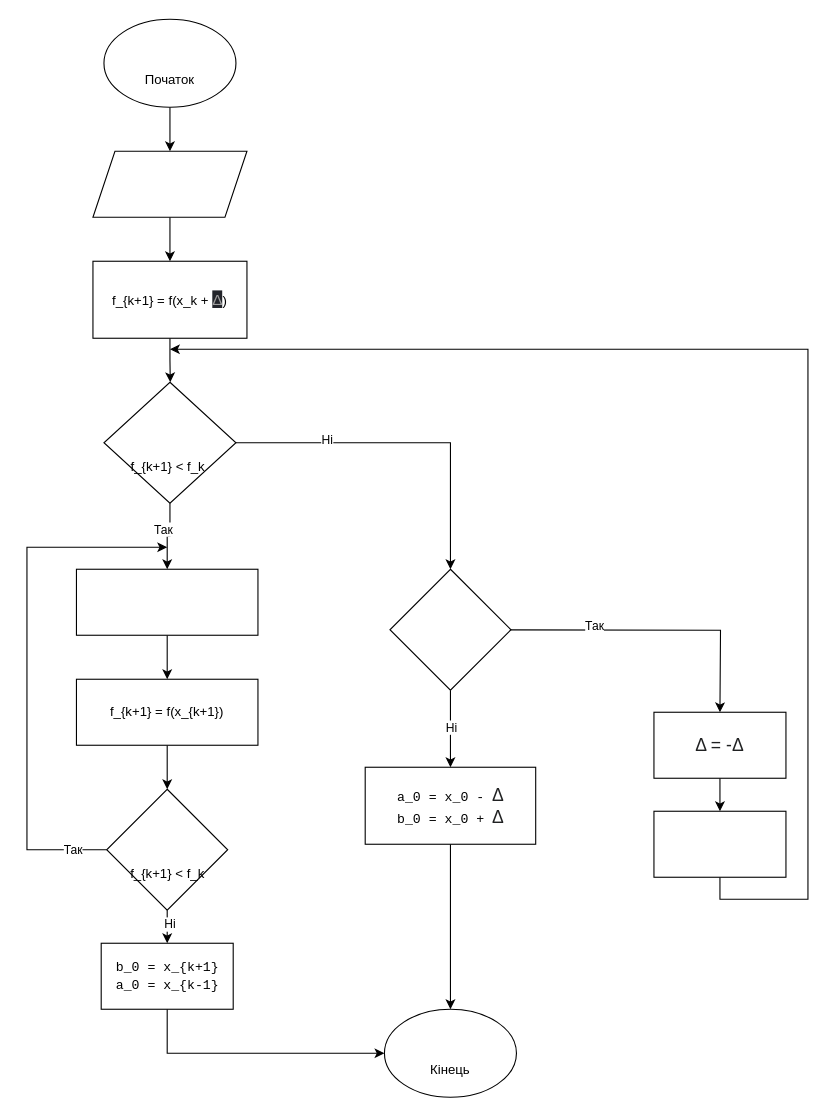
Some shapes in this 836 by 1117 pixel diagram are drawn without their labels. The shapes that lost their labels are listed below. From the top down, each one's centre as x and y in pixels, then its label:
[169,183]: k = 0 p = 0 f_k = f(x_0)
[166,601]: k = k + 1 x_{k+1} = x_k + 2^k ⋅ Δ
[450,629]: p = 0
[719,843]: p = p + 1
